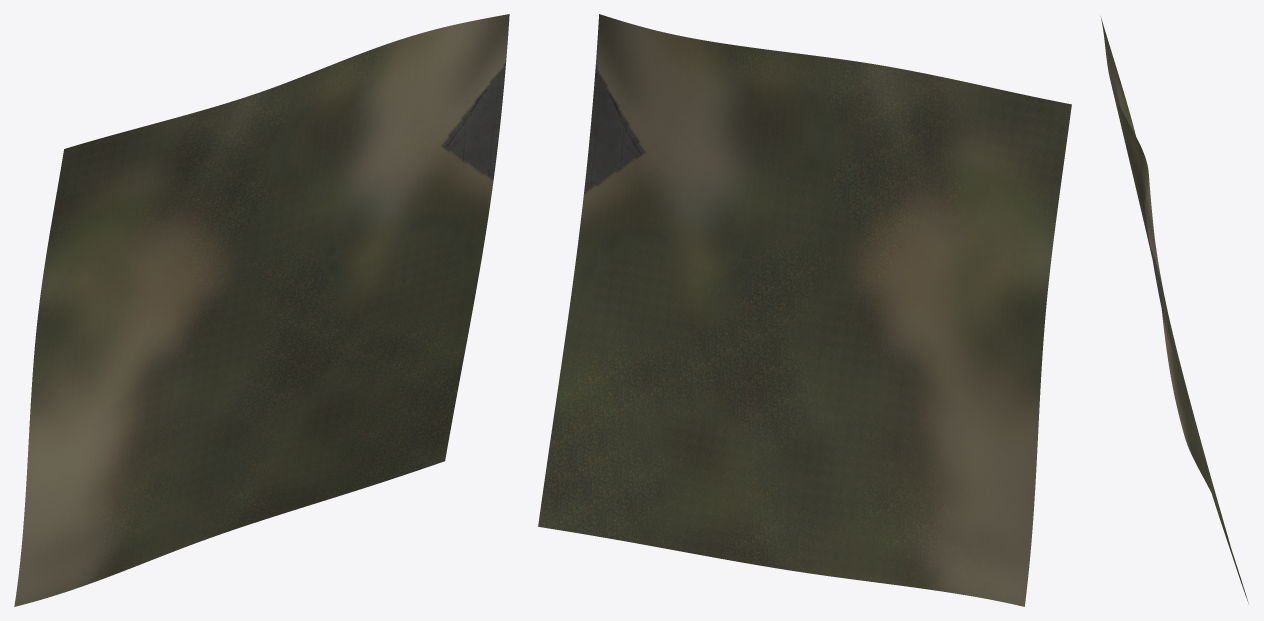
File: ground_core_05_02.obj
3 views of the same model, side by side, from view 1: azimuth 30°, elevation 25°; view 2: azimuth 150°, elevation 25°; view 3: azimuth 270°, elevation 25° (orthographic). The views are drawn at different scales.
Parts seen in each view (by area): view 1: ground_core_05_02; view 2: ground_core_05_02; view 3: ground_core_05_02.
Boxes of the visible parts, left/top/right/bottom form: ground_core_05_02: left=14, top=14, right=509, bottom=606; ground_core_05_02: left=538, top=14, right=1071, bottom=606; ground_core_05_02: left=1100, top=16, right=1248, bottom=603.
Bounding box in the file's own units: 50 × 50 × 16.78.
1 material, 1 textured.
